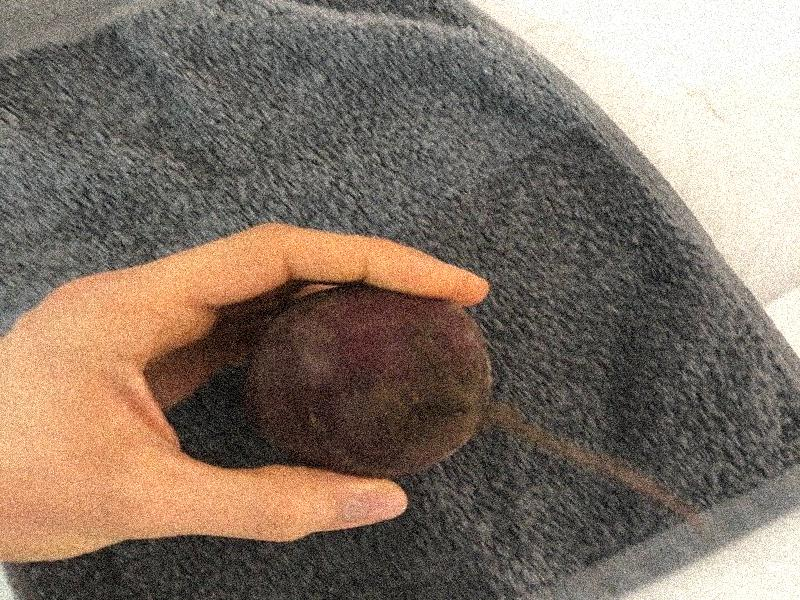Beet: (244, 285, 489, 477)
